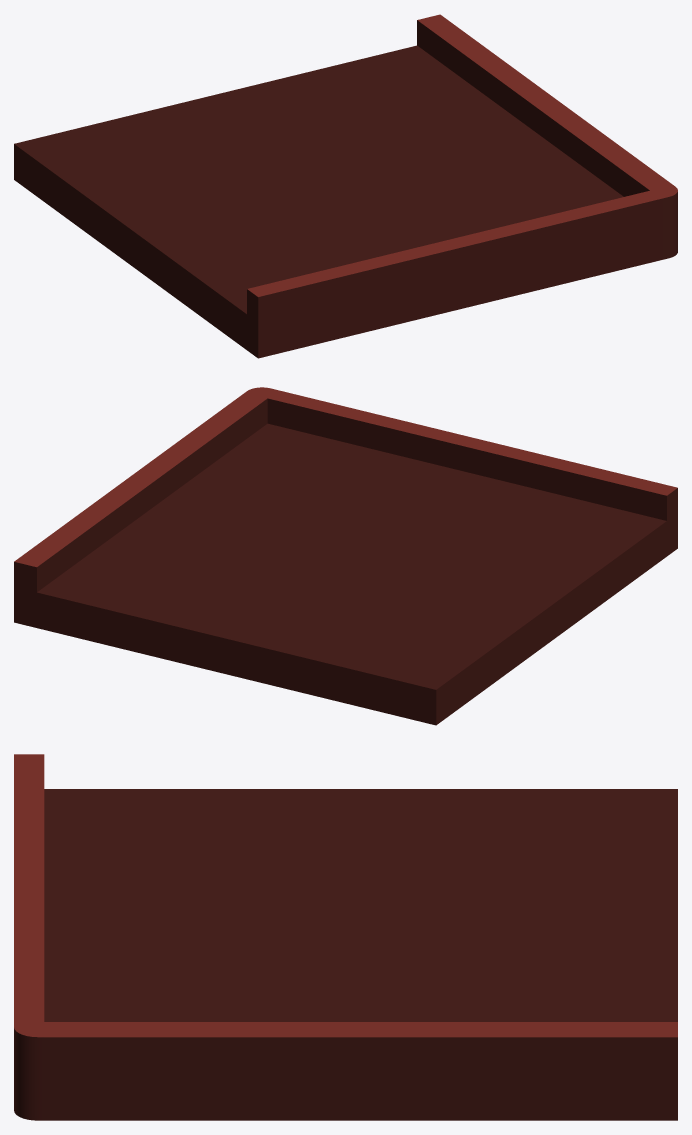
The model's file is Cupcake Tray Sort - board demo 2.fbx.
3 views of the same model, one above another, from view 1: azimuth 30°, elevation 25°; view 2: azimuth 150°, elevation 25°; view 3: azimuth 270°, elevation 25° (orthographic). The views are drawn at different scales.
Visible parts, largest first — view 1: board 1; view 2: board 1; view 3: board 1.
Part boxes in pixels (x1=…): board 1: x1=14, y1=14, x2=677, y2=358; board 1: x1=14, y1=387, x2=677, y2=725; board 1: x1=14, y1=754, x2=677, y2=1120.
Bounding box in the file's own units: 0.1042 × 0.1034 × 0.0143.
